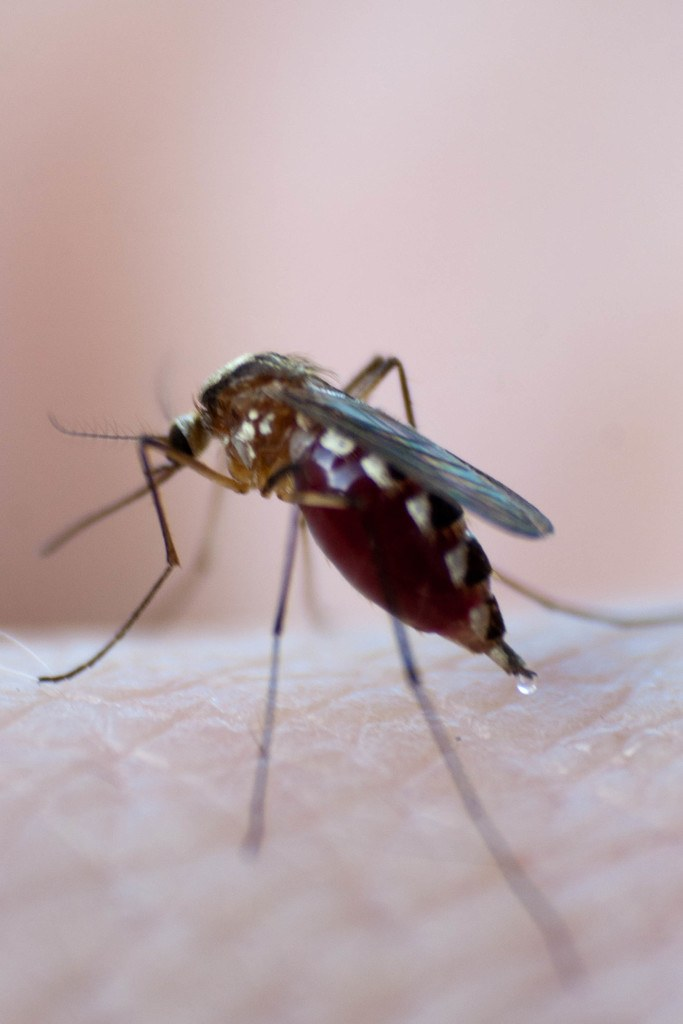insect: (34, 337, 682, 1000)
